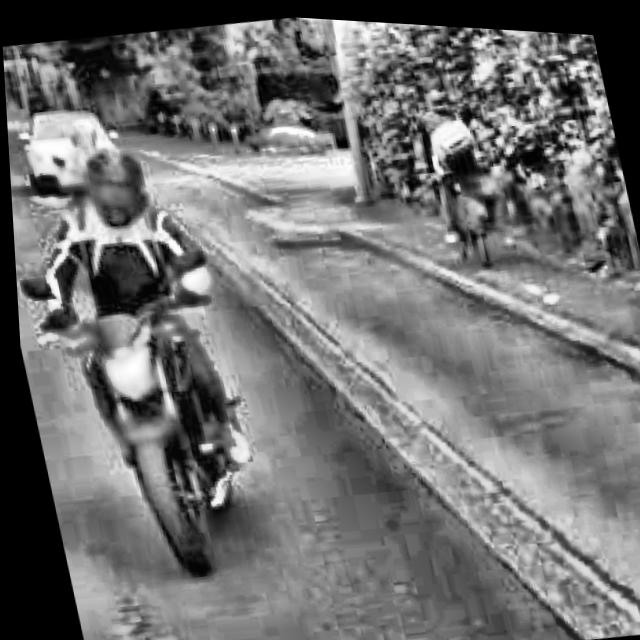motorcycle: (12, 210, 285, 595), (401, 110, 512, 288)
